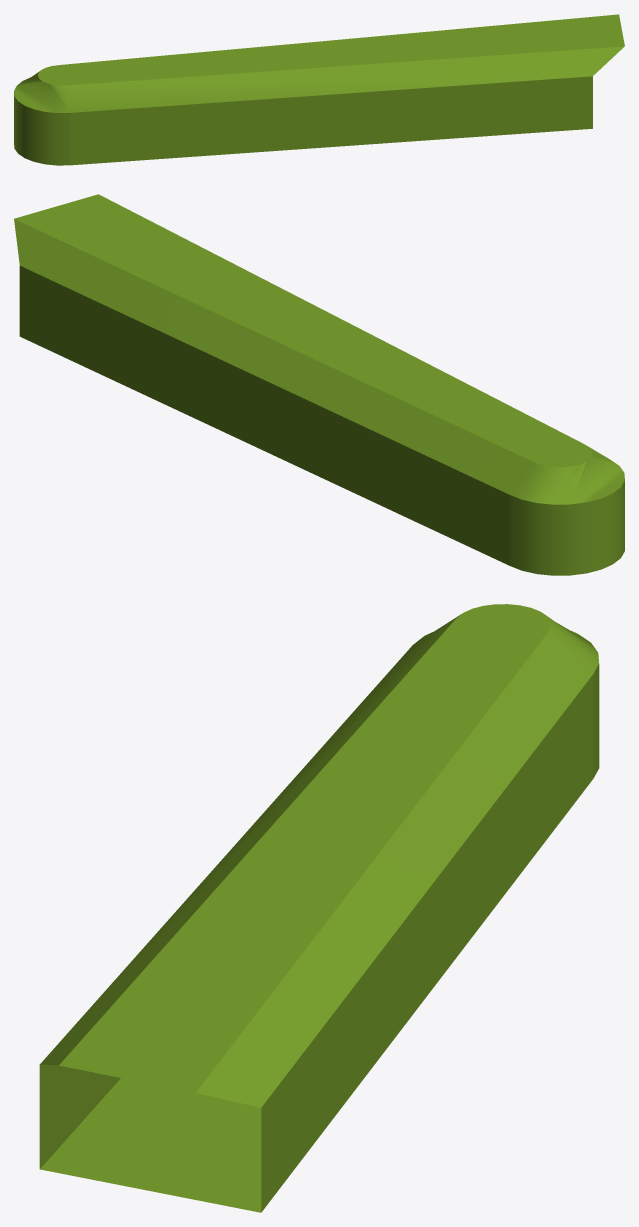
3 renders of one model, top to bottom at view 1: azimuth 30°, elevation 25°; view 2: azimuth 150°, elevation 25°; view 3: azimuth 270°, elevation 25°, orthographic. The views are drawn at different scales.
Bounding box in the file's own units: 0.5371 × 0.0688 × 0.2493.
